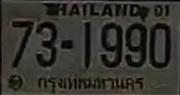0: (149, 22, 170, 67)
1: (83, 22, 90, 68)
3: (35, 21, 56, 66)
7: (11, 20, 33, 67)
9: (100, 22, 122, 67), (125, 22, 146, 66)
BKK: (33, 75, 147, 95)
